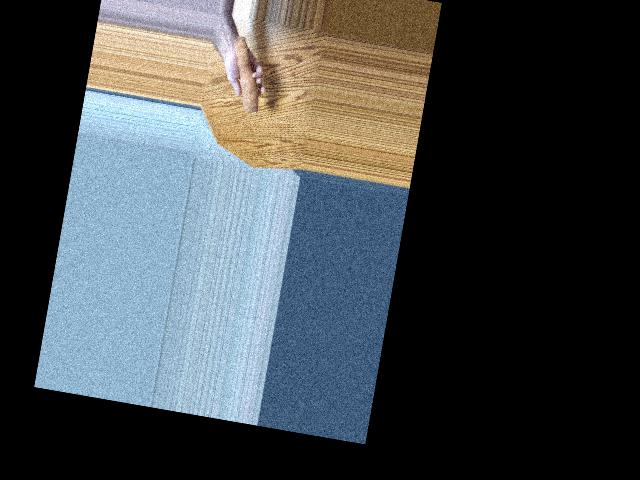sweet_potato: (222, 36, 271, 114)
